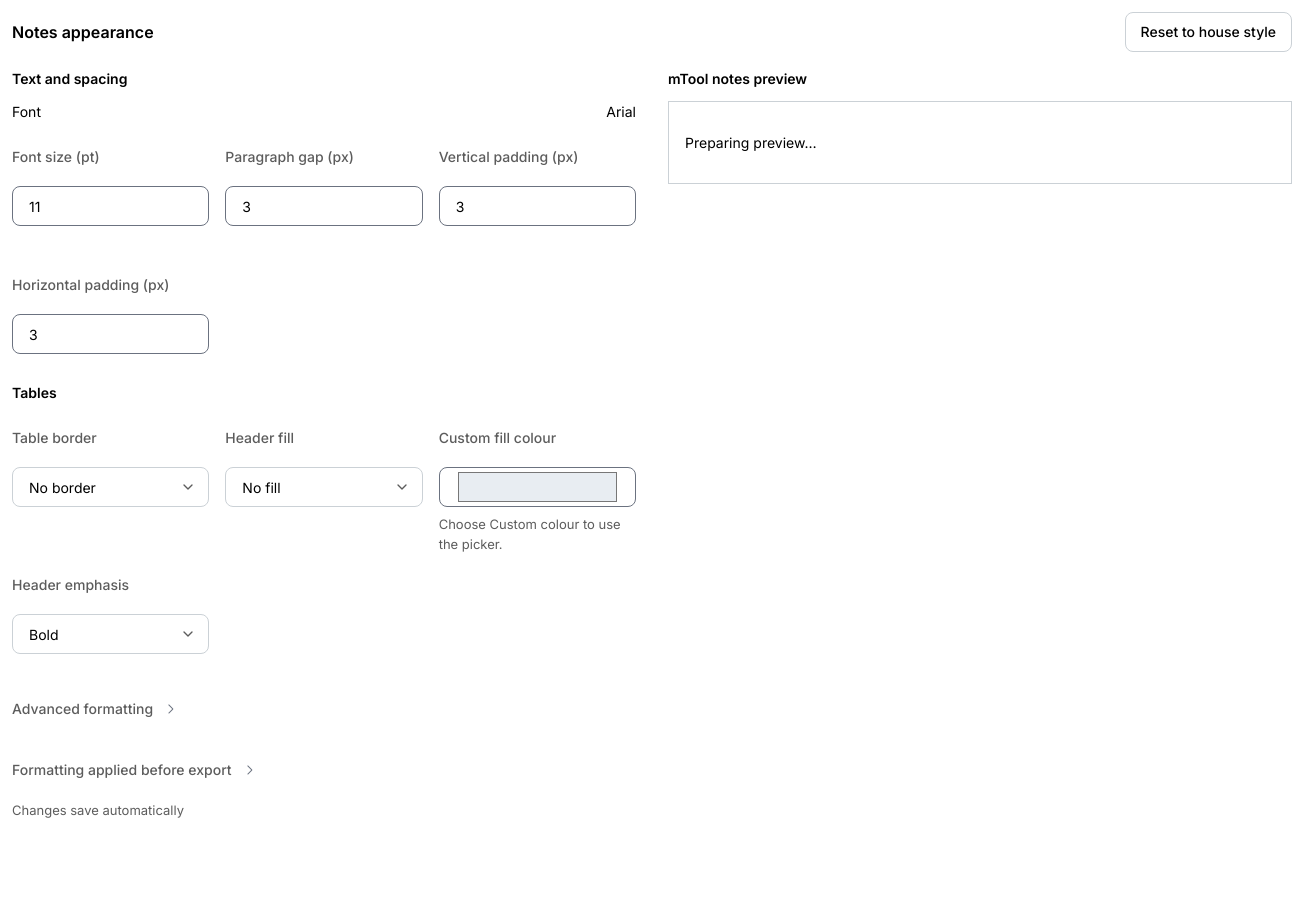
Test: Notes appearance › clamps numeric values before saving
Replace the text in the number field labelled "Font size (pt)" with "99" at (111, 206), box [12,186,209,226]
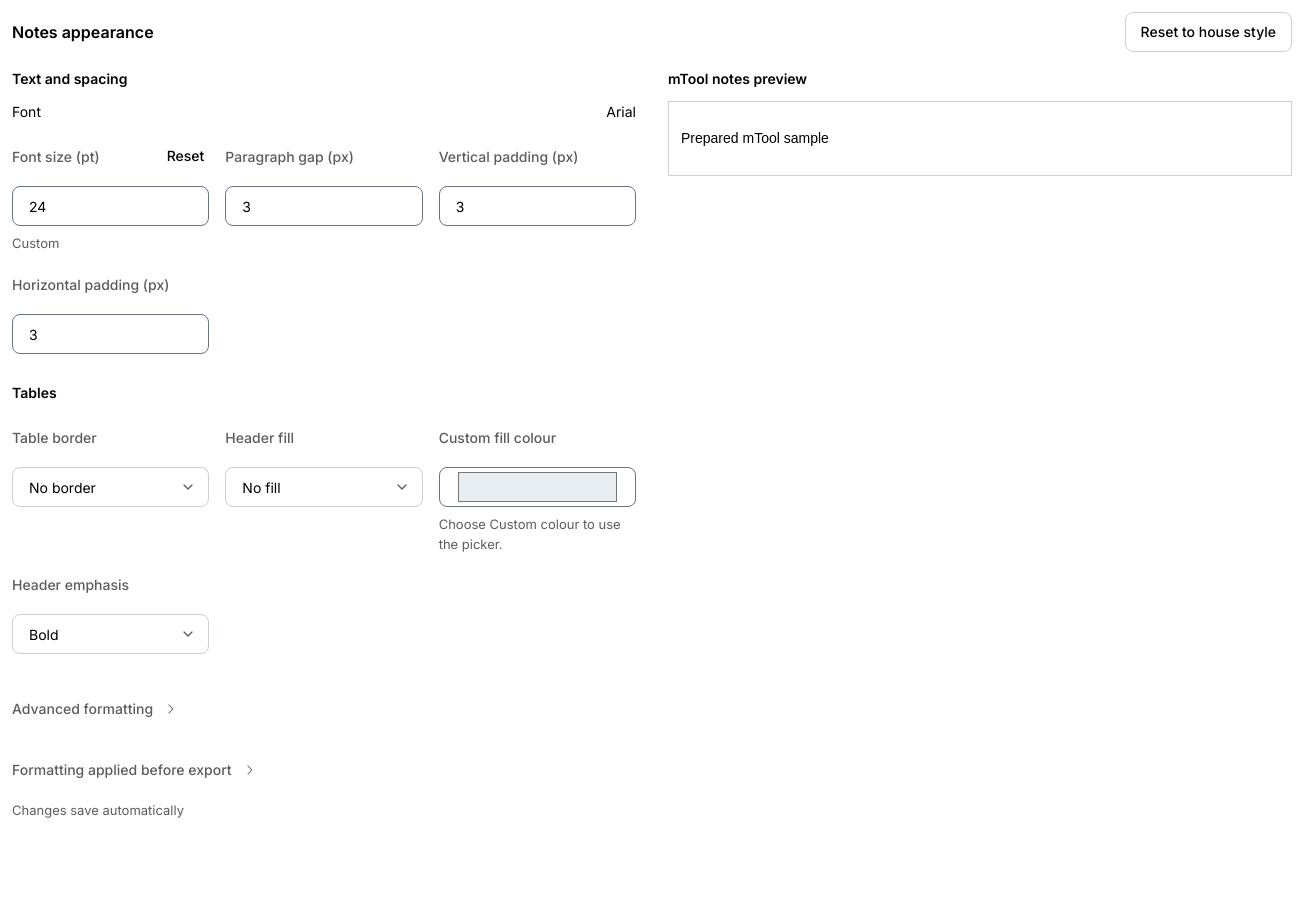
Now the number field labelled "Font size (pt)" holds "24", box [12,186,209,226]
